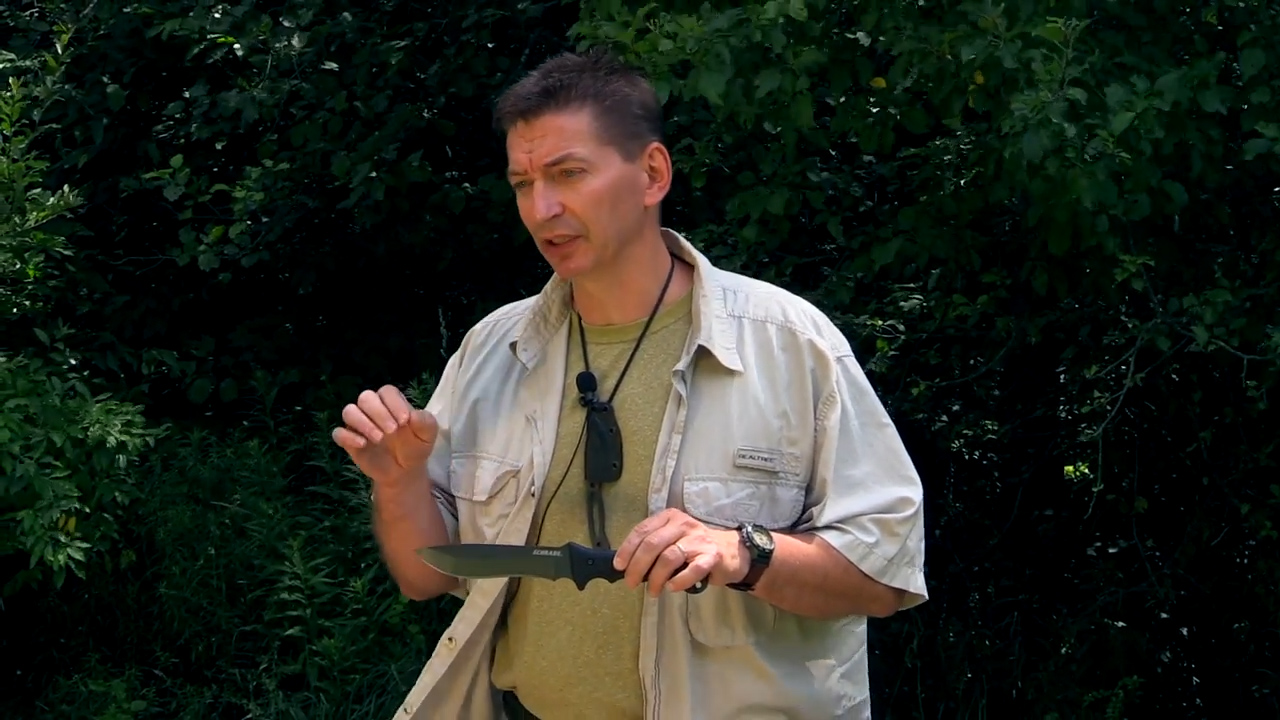knife: (409, 506, 714, 601)
